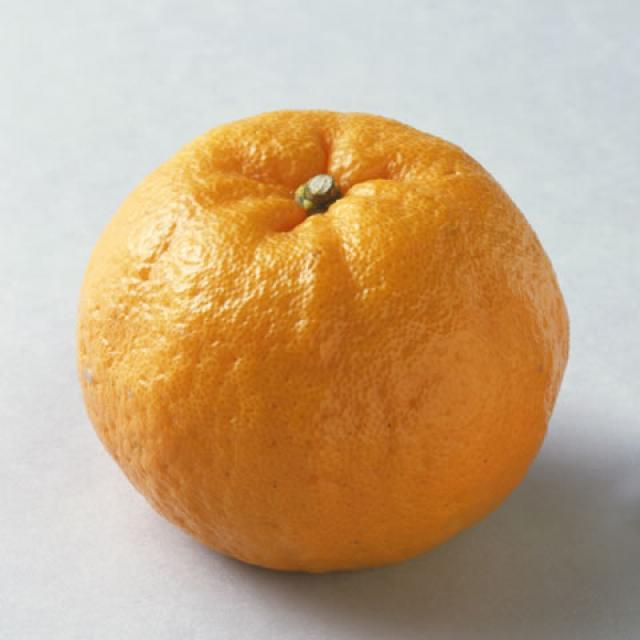Orange: (77, 110, 579, 578)
